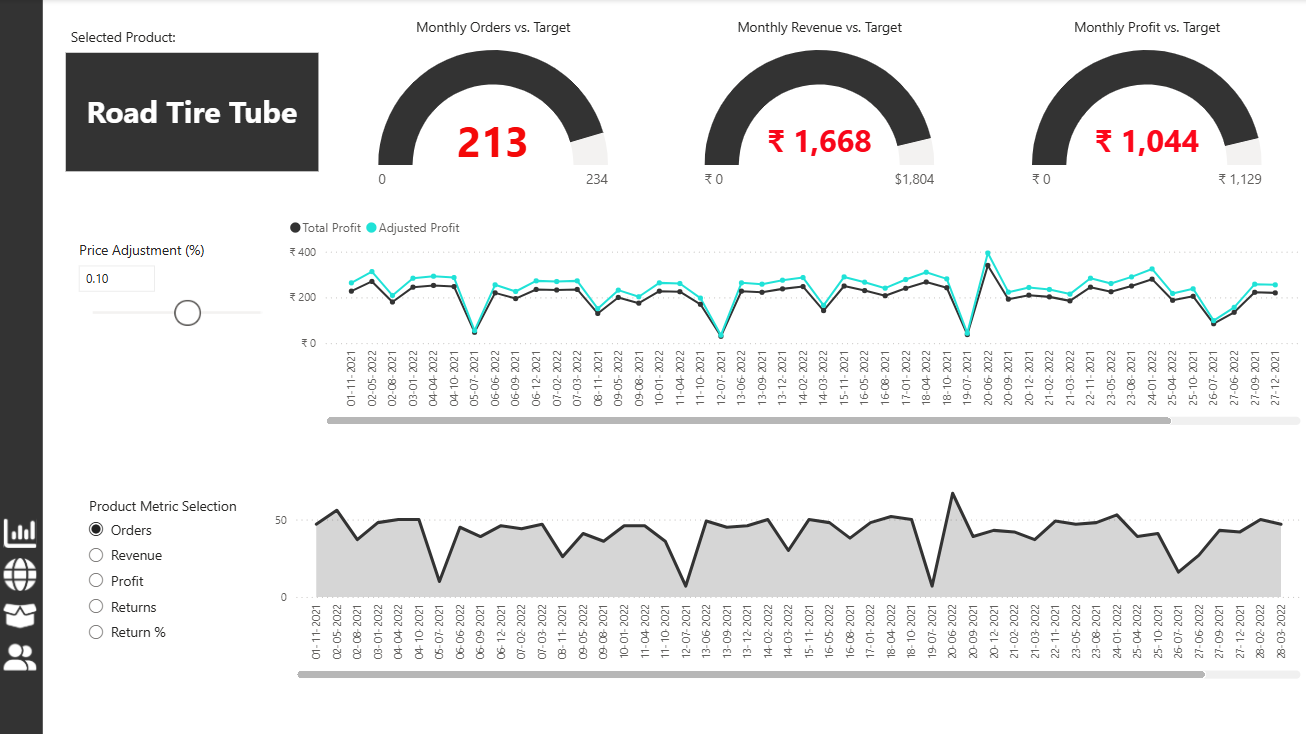

This screenshot's page, from the dashboard's own definition file:
{"tool":"powerbi","page":{"name":"Product Details","canvas":[1280,720],"ordinal":2},"visuals":[{"type":"shape","box":[0,0,45,720.2],"z":0},{"type":"gauge","title":"Monthly Orders vs. Target","fields":{"MaxValue":["Measure Table.Order Target"],"Y":["Measure Table.Total Orders"]},"box":[368.1,18.3,234.8,185.9],"z":1000},{"type":"gauge","title":"Monthly Revenue vs. Target","fields":{"MaxValue":["Measure Table.Revenue Target"],"Y":["Measure Table.Total Revenue"]},"box":[687.8,18.3,234.8,185.9],"z":2000},{"type":"gauge","title":"Monthly Profit vs. Target","fields":{"MaxValue":["Measure Table.Profit Target"],"Y":["Measure Table.Total Profit"]},"box":[1007.6,18.3,234.8,185.9],"z":3000},{"type":"lineChart","title":"Profit Trending","fields":{"Category":["Calendar Lookup.Date Hierarchy.Start of Year","Calendar Lookup.Date Hierarchy.Start of Month","Calendar Lookup.Date Hierarchy.Start of Week","Calendar Lookup.Date Hierarchy.Date"],"Y":["Measure Table.Total Profit","Measure Table.Adjusted Profit"]},"box":[281.3,204.2,999.1,217.7],"z":4000},{"type":"areaChart","title":"Return Trending","fields":{"Category":["Calendar Lookup.Date Hierarchy.Start of Year","Calendar Lookup.Date Hierarchy.Start of Month","Calendar Lookup.Date Hierarchy.Start of Week","Calendar Lookup.Date Hierarchy.Date"],"Y":["Measure Table.Total Orders"]},"box":[266.6,450,1013.7,220.1],"z":5000},{"type":"card","fields":{"Values":["Min(Product Lookup.ProductName)"]},"box":[67.3,52.6,247,116.2],"z":6000},{"type":"textbox","box":[67.3,23.2,145.5,29.3],"z":7000},{"type":"actionButton","box":[1.8,502.6,45.2,40.4],"z":8000},{"type":"actionButton","box":[1.8,542.9,45.2,40.4],"z":9000},{"type":"actionButton","box":[1.8,583.3,45.2,40.4],"z":10000},{"type":"actionButton","box":[1.8,623.6,45.2,40.4],"z":11000},{"type":"slicer","fields":{"Values":["Price Adjustment (%).Price Adjustment (%)"]},"box":[67.3,231.1,214,161.4],"z":12000},{"type":"slicer","fields":{"Values":["Product Metric Selection.Product Metric Selection"]},"box":[77,481.8,178.5,182.2],"z":13000}]}

Visuals, with their boxes on the page's 1280x720 design canvas (x1, y1, x2, y2). These are canvas units, not pixel positions in the 1306x734 screenshot, which may show the page scaled, cropped or inside an application window:
shape: [x1=0, y1=0, x2=45, y2=720]
"Monthly Orders vs. Target" gauge: [x1=368, y1=18, x2=603, y2=204]
"Monthly Revenue vs. Target" gauge: [x1=688, y1=18, x2=923, y2=204]
"Monthly Profit vs. Target" gauge: [x1=1008, y1=18, x2=1242, y2=204]
"Profit Trending" lineChart: [x1=281, y1=204, x2=1280, y2=422]
"Return Trending" areaChart: [x1=267, y1=450, x2=1280, y2=670]
card - Min(Product Lookup.ProductName): [x1=67, y1=53, x2=314, y2=169]
textbox: [x1=67, y1=23, x2=213, y2=52]
actionButton: [x1=2, y1=503, x2=47, y2=543]
actionButton: [x1=2, y1=543, x2=47, y2=583]
actionButton: [x1=2, y1=583, x2=47, y2=624]
actionButton: [x1=2, y1=624, x2=47, y2=664]
slicer - Price Adjustment (%).Price Adjustment (%): [x1=67, y1=231, x2=281, y2=392]
slicer - Product Metric Selection.Product Metric Selection: [x1=77, y1=482, x2=256, y2=664]
